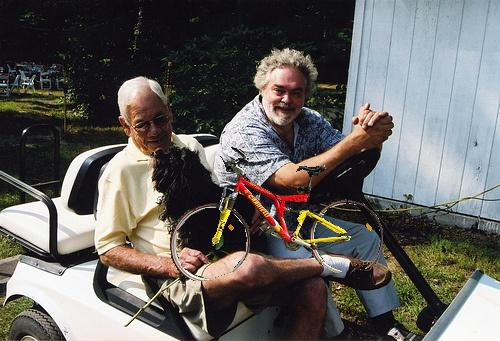tampered: (171, 148, 383, 281)
